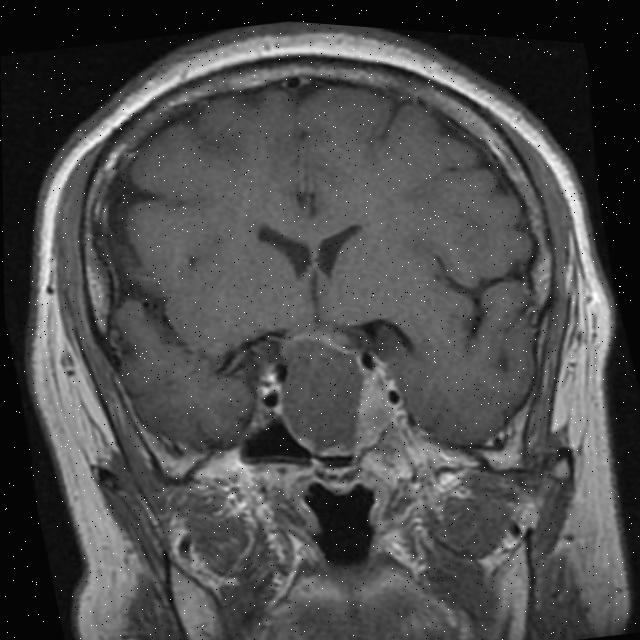Pituitary: (264, 321, 381, 470)
